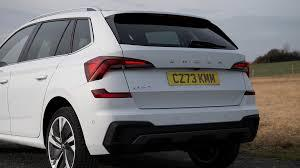skoda: (166, 51, 230, 69)
